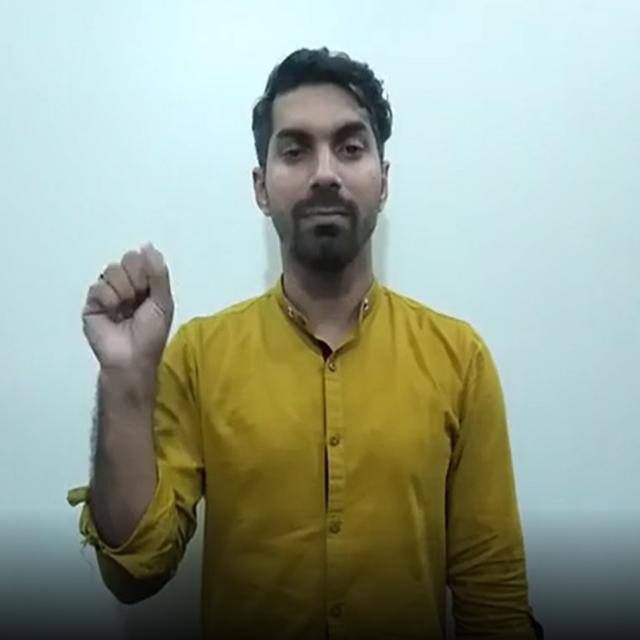yes: (82, 243, 175, 367)
